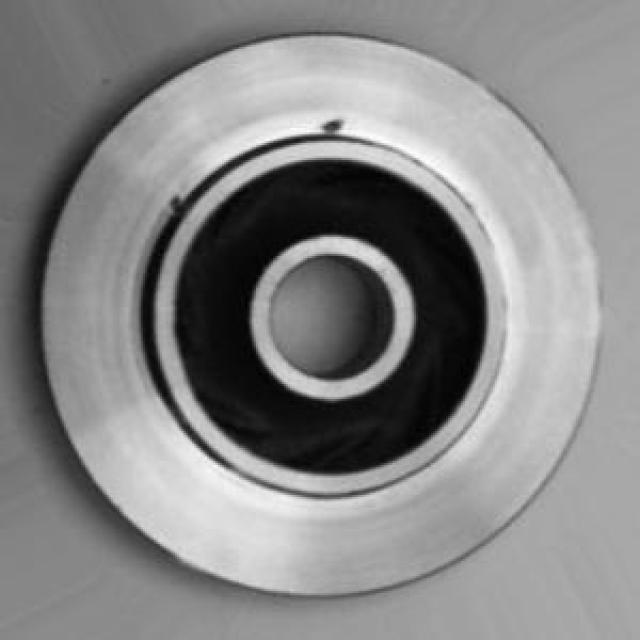Defect: (314, 111, 354, 142)
